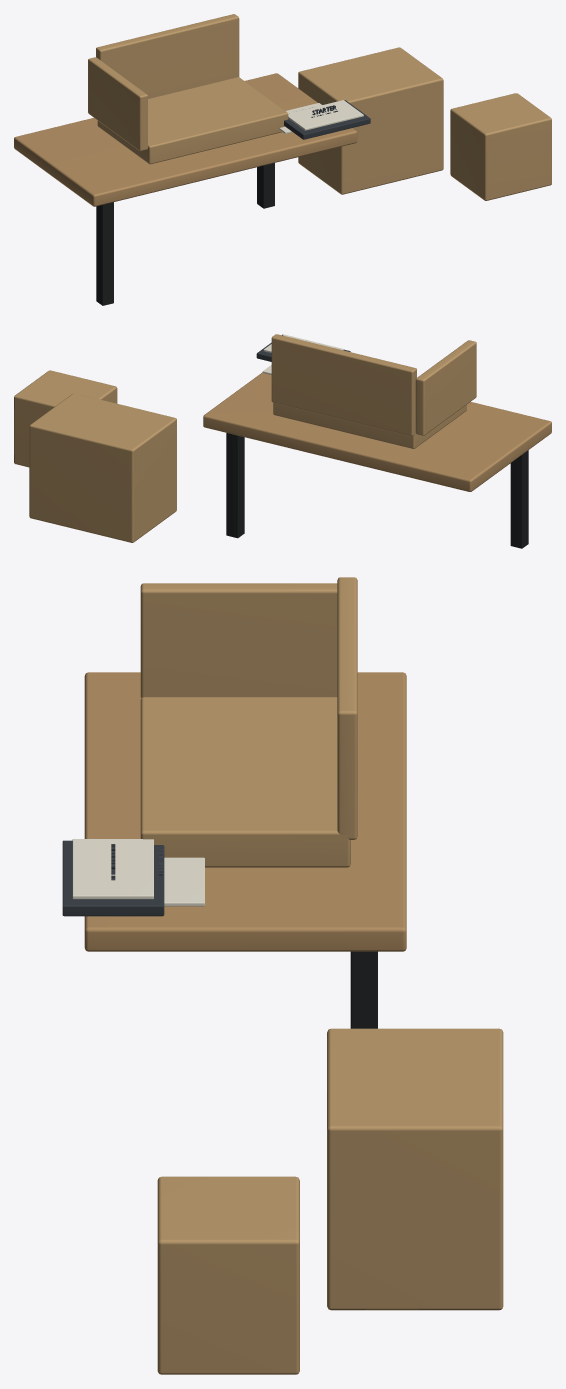
File: receiving_backroom_pack.glb
3 views of the same model, one above another, from view 1: azimuth 30°, elevation 25°; view 2: azimuth 150°, elevation 25°; view 3: azimuth 270°, elevation 25° (orthographic). The views are drawn at different scales.
Parts seen in each view (by area): view 1: sealed_backroom_shipper_a, receiving_table_laminate_top, sealed_backroom_shipper_b, open_shipment_box_bottom, open_shipment_box_back_flap, open_shipment_box_left_flap, receiving_table_left_leg, manifest_top_sheet, receiving_clipboard, receiving_table_right_leg; view 2: sealed_backroom_shipper_a, receiving_table_laminate_top, open_shipment_box_back_flap, open_shipment_box_left_flap, sealed_backroom_shipper_b, open_shipment_box_bottom, receiving_table_right_leg, receiving_table_left_leg; view 3: sealed_backroom_shipper_a, receiving_table_laminate_top, open_shipment_box_bottom, sealed_backroom_shipper_b, open_shipment_box_left_flap, open_shipment_box_back_flap, manifest_top_sheet, receiving_clipboard, receiving_table_right_leg, invoice_manifest_sheet.
Part boxes in pixels (x1,y1,x2,y2): sealed_backroom_shipper_a: [298, 47, 443, 194]; receiving_table_laminate_top: [14, 73, 357, 206]; sealed_backroom_shipper_b: [450, 93, 551, 200]; open_shipment_box_bottom: [97, 77, 288, 164]; open_shipment_box_back_flap: [96, 14, 239, 98]; open_shipment_box_left_flap: [88, 57, 147, 151]; receiving_table_left_leg: [96, 202, 113, 305]; manifest_top_sheet: [288, 100, 363, 130]; receiving_clipboard: [284, 100, 370, 139]; receiving_table_right_leg: [257, 163, 274, 208]; sealed_backroom_shipper_a: [29, 393, 176, 542]; receiving_table_laminate_top: [203, 372, 551, 491]; open_shipment_box_back_flap: [271, 334, 416, 436]; open_shipment_box_left_flap: [415, 340, 476, 435]; sealed_backroom_shipper_b: [14, 370, 117, 467]; open_shipment_box_bottom: [273, 402, 466, 448]; receiving_table_right_leg: [226, 433, 244, 538]; receiving_table_left_leg: [510, 450, 528, 548]; sealed_backroom_shipper_a: [327, 1028, 503, 1310]; receiving_table_laminate_top: [84, 672, 406, 951]; open_shipment_box_bottom: [140, 697, 350, 867]; sealed_backroom_shipper_b: [157, 1176, 299, 1374]; open_shipment_box_left_flap: [140, 583, 337, 697]; open_shipment_box_back_flap: [337, 577, 357, 839]; manifest_top_sheet: [72, 839, 153, 899]; receiving_clipboard: [62, 840, 164, 916]; receiving_table_right_leg: [350, 951, 377, 1028]; invoice_manifest_sheet: [164, 857, 204, 906].
Size of the model in its own units: 3.25 by 1.31 by 1.3.
